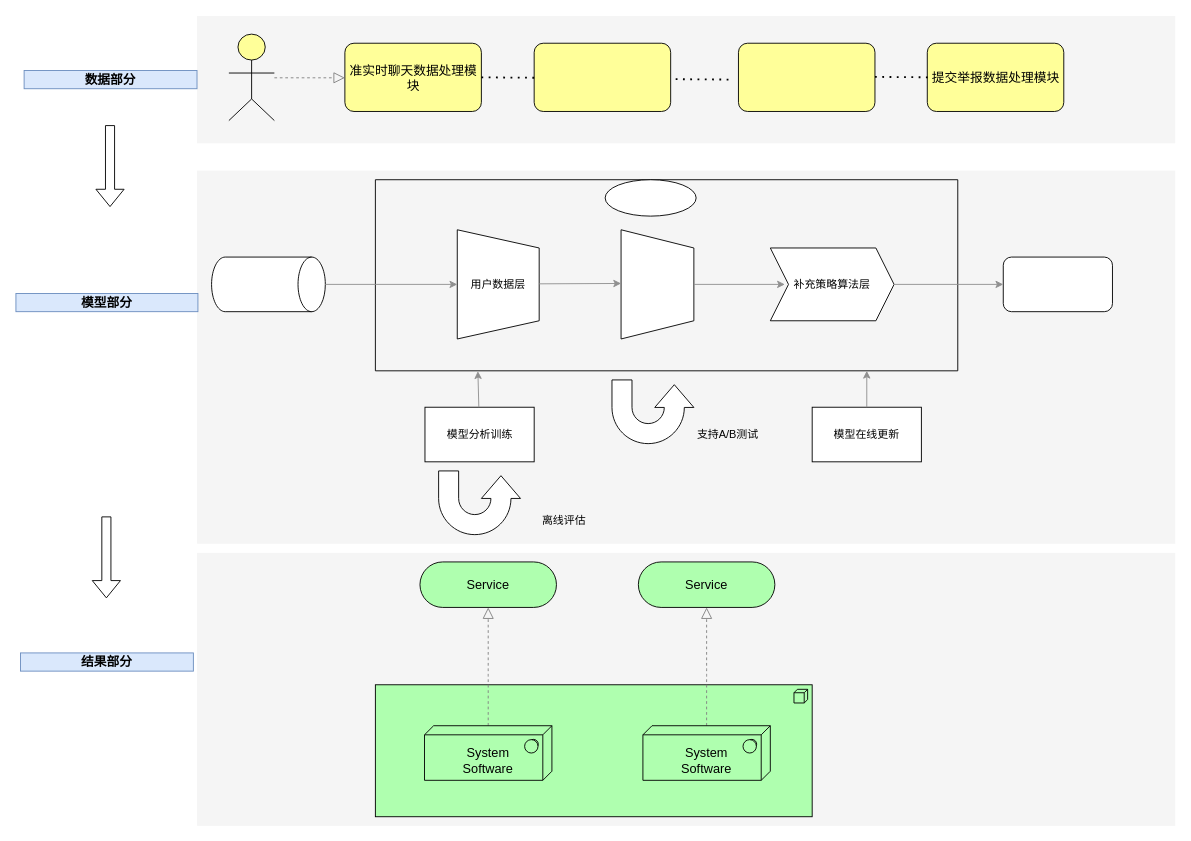
This 1191x841 diagram has some shape labels left out. The shapes that lost their labels are listed below. From the top down, each one's box as (x1, y1, x2, y2) in pixels, then its label:
(533, 42, 671, 111): 存档数据模块
(738, 42, 875, 111): 大数据平台离线数据处理模块
(604, 179, 696, 216): 反欺诈系统模型
(211, 256, 325, 312): 反欺诈 数据库
(620, 229, 694, 339): 追诉期层
(1002, 256, 1112, 312): 处理结果
(374, 684, 812, 817): Node
